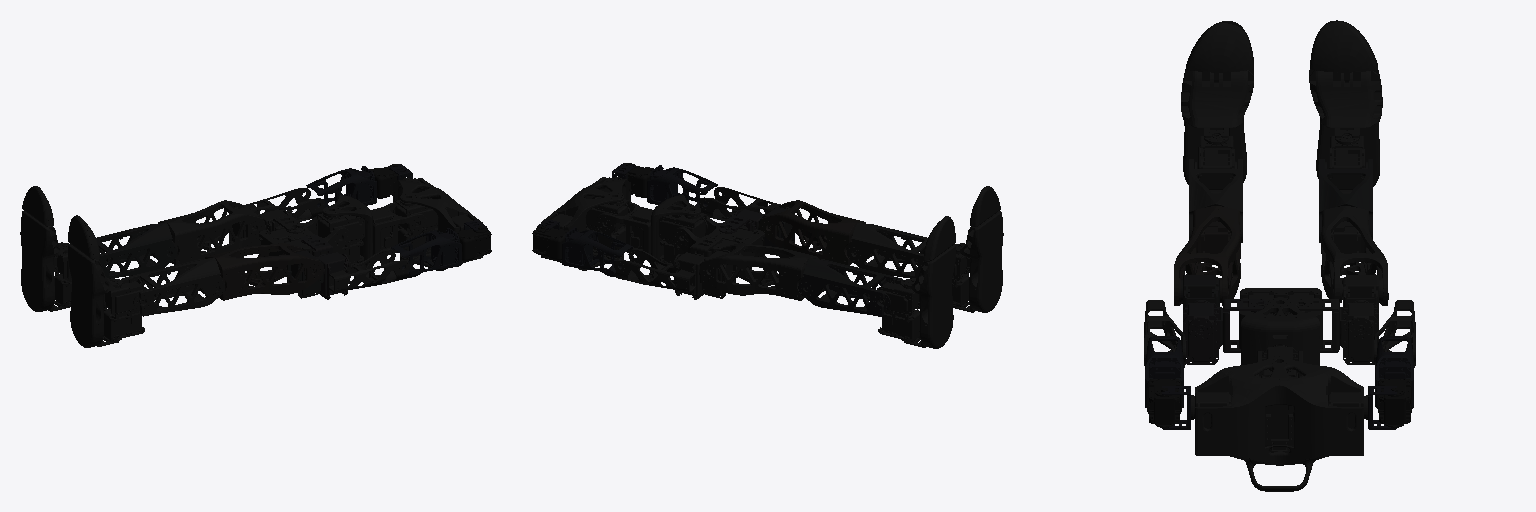
--- Facts derived from the render (not from the file) ---
3 views of the same robot in one strip: view 1: azimuth 30°, elevation 25°; view 2: azimuth 150°, elevation 25°; view 3: azimuth 270°, elevation 25° (orthographic).
Model main_stl_final with 30 links and 29 joints (25 revolute, 4 fixed), rooted at world, posed every joint at zero.
Links seen in each view (by area): view 1: l_hip_x, l_ankle_z, base, r_knee_x, l_knee_x, r_ankle_x, chest_z, l_ankle_x, l_shoulder_y, l_elbow, r_shoulder_y, spine (+11 smaller); view 2: r_knee_x, base, l_ankle_z, l_hip_x, r_ankle_x, l_knee_x, chest_z, right_ankle_z, r_shoulder_y, r_elbow, l_shoulder_y, spine (+11 smaller); view 3: chest_z, base, l_ankle_z, r_knee_x, l_hip_x, addomen, l_hip_z, r_hip_y, r_ankle_x, l_knee_x, l_ankle_x, right_ankle_z (+10 smaller).
Link boxes in pixels (x1=…): l_hip_x: x1=195, y1=243, x2=323, y2=300; l_ankle_z: x1=68, y1=215, x2=122, y2=347; base: x1=20, y1=186, x2=70, y2=311; r_knee_x: x1=147, y1=200, x2=264, y2=264; l_knee_x: x1=121, y1=258, x2=224, y2=316; r_ankle_x: x1=96, y1=222, x2=177, y2=277; chest_z: x1=393, y1=178, x2=482, y2=270; l_ankle_x: x1=104, y1=278, x2=146, y2=340; l_shoulder_y: x1=391, y1=228, x2=461, y2=277; l_elbow: x1=328, y1=250, x2=409, y2=292; r_shoulder_y: x1=306, y1=166, x2=376, y2=207; spine: x1=370, y1=202, x2=426, y2=254; r_knee_x: x1=700, y1=243, x2=828, y2=300; base: x1=901, y1=216, x2=955, y2=348; l_ankle_z: x1=953, y1=186, x2=1003, y2=312; l_hip_x: x1=759, y1=200, x2=877, y2=264; r_ankle_x: x1=798, y1=258, x2=902, y2=316; l_knee_x: x1=847, y1=223, x2=927, y2=278; chest_z: x1=541, y1=177, x2=630, y2=270; right_ankle_z: x1=877, y1=279, x2=919, y2=341; r_shoulder_y: x1=562, y1=227, x2=632, y2=276; r_elbow: x1=614, y1=249, x2=695, y2=291; l_shoulder_y: x1=647, y1=165, x2=717, y2=207; spine: x1=596, y1=202, x2=652, y2=253; chest_z: x1=1191, y1=356, x2=1367, y2=491; base: x1=1309, y1=20, x2=1382, y2=186; l_ankle_z: x1=1181, y1=21, x2=1253, y2=184; r_knee_x: x1=1321, y1=206, x2=1388, y2=305; l_hip_x: x1=1174, y1=206, x2=1240, y2=305; addomen: x1=1241, y1=297, x2=1319, y2=365; l_hip_z: x1=1183, y1=299, x2=1267, y2=364; r_hip_y: x1=1293, y1=299, x2=1378, y2=364; r_ankle_x: x1=1319, y1=159, x2=1372, y2=242; l_knee_x: x1=1189, y1=159, x2=1242, y2=242; l_ankle_x: x1=1198, y1=134, x2=1234, y2=193; right_ankle_z: x1=1329, y1=134, x2=1364, y2=193.
Size in the robot's own frame: 0.7014 by 0.3056 by 0.2607 metres.
26 mesh visuals loaded from 26 distinct referenced files (26 binary STL).

The robot description file, URDF, robot "main_stl_final":
<robot
  name="main_stl_final">
<link name="world" />
  <joint name="float" type="fixed">
    <parent link="world" />
    <child link="base" />
    <origin
        xyz="0 0 0"
        rpy="0 0 0"/>
  </joint>
  <link
    name="base">
    <inertial>
      <origin
        xyz="0.0124386401348986 0.000111230517714077 0.0293743201907392"
        rpy="0 0 0" />
      <mass
        value="0.256926143732942" />
      <inertia
        ixx="0.000867173594886241"
        ixy="-1.5849141367168E-06"
        ixz="2.88614426248793E-05"
        iyy="0.000796482628887496"
        iyz="3.23740087334044E-05"
        izz="0.000124315497414041" />
    </inertial>
    <visual>
      <origin
        xyz="0 0 0"
        rpy="0 0 0" />
      <geometry>
        <mesh
          filename="package://main_stl_final/meshes/base.STL" />
      </geometry>
      <material
        name="">
        <color
          rgba="0.0980392156862745 0.0980392156862745 0.0980392156862745 1" />
      </material>
    </visual>
    <collision>
      <origin
        xyz="0 0 0"
        rpy="0 0 0" />
      <geometry>
        <mesh
          filename="package://main_stl_final/meshes/base.STL" />
      </geometry>
    </collision>
  </link>
  <link
    name="right_ankle_z">
    <inertial>
      <origin
        xyz="0.0175808279162741 0.000152912879896498 -0.0193420655120859"
        rpy="0 0 0" />
      <mass
        value="0.145780669225913" />
      <inertia
        ixx="9.87379897927623E-05"
        ixy="2.29122686010014E-07"
        ixz="-4.81552409072526E-06"
        iyy="0.000120982123559853"
        iyz="-2.64279405662916E-07"
        izz="5.60384406698036E-05" />
    </inertial>
    <visual>
      <origin
        xyz="0 0 0"
        rpy="0 0 0" />
      <geometry>
        <mesh
          filename="package://main_stl_final/meshes/right_ankle_z.STL" />
      </geometry>
      <material
        name="">
        <color
          rgba="0.0980392156862745 0.0980392156862745 0.0980392156862745 1" />
      </material>
    </visual>
    <collision>
      <origin
        xyz="0 0 0"
        rpy="0 0 0" />
      <geometry>
        <mesh
          filename="package://main_stl_final/meshes/right_ankle_z.STL" />
      </geometry>
    </collision>
  </link>
  <joint
    name="raz"
    type="revolute">
    <origin
      xyz="0.0581054049587723 0 0"
      rpy="-1.2793585635329E-17 -1.63731792272017E-15 3.72434483752857E-27" />
    <parent
      link="base" />
    <child
      link="right_ankle_z" />
    <axis
      xyz="0 0 1" />
<limit       lower="0.0"       upper="5.0"       effort="5.0"       velocity="10.0" /> 
  </joint>
  <link
    name="r_ankle_x">
    <inertial>
      <origin
        xyz="0.0761088080033852 -0.00245262436800336 8.49116529343281E-05"
        rpy="0 0 0" />
      <mass
        value="0.08756287381993" />
      <inertia
        ixx="7.85588111640122E-05"
        ixy="-7.44879806343099E-06"
        ixz="1.75529004801119E-06"
        iyy="0.000225253421958116"
        iyz="-1.39500084885544E-07"
        izz="0.000199056327148253" />
    </inertial>
    <visual>
      <origin
        xyz="0 0 0"
        rpy="0 0 0" />
      <geometry>
        <mesh
          filename="package://main_stl_final/meshes/r_ankle_x.STL" />
      </geometry>
      <material
        name="">
        <color
          rgba="0.0894117647058823 0.0909803921568627 0.0925490196078431 1" />
      </material>
    </visual>
    <collision>
      <origin
        xyz="0 0 0"
        rpy="0 0 0" />
      <geometry>
        <mesh
          filename="package://main_stl_final/meshes/r_ankle_x.STL" />
      </geometry>
    </collision>
  </link>
  <joint
    name="rax"
    type="revolute">
    <origin
      xyz="0.036000000065552 -0.000768712973506325 0"
      rpy="1.5707963267949 1.63667354693312E-15 3.75862639053866E-27" />
    <parent
      link="right_ankle_z" />
    <child
      link="r_ankle_x" />
    <axis
      xyz="0 0 1" />
<limit       lower="0.0"       upper="5.0"       effort="5.0"       velocity="10.0" /> 
  </joint>
  <link
    name="r_knee_x">
    <inertial>
      <origin
        xyz="0.0609466391998564 0.00147499393899564 -0.00347403484029074"
        rpy="0 0 0" />
      <mass
        value="0.194089637220224" />
      <inertia
        ixx="0.000140124177625586"
        ixy="9.78888185990671E-06"
        ixz="6.6958472243565E-05"
        iyy="0.000631104743342437"
        iyz="-5.95409951638577E-07"
        izz="0.000604250094947369" />
    </inertial>
    <visual>
      <origin
        xyz="0 0 0"
        rpy="0 0 0" />
      <geometry>
        <mesh
          filename="package://main_stl_final/meshes/r_knee_x.STL" />
      </geometry>
      <material
        name="">
        <color
          rgba="0.0980392156862745 0.0980392156862745 0.0980392156862745 1" />
      </material>
    </visual>
    <collision>
      <origin
        xyz="0 0 0"
        rpy="0 0 0" />
      <geometry>
        <mesh
          filename="package://main_stl_final/meshes/r_knee_x.STL" />
      </geometry>
    </collision>
  </link>
  <joint
    name="rkx"
    type="revolute">
    <origin
      xyz="0.129912886462481 -0.00806590785724529 0"
      rpy="-2.47848616630186E-16 2.9102784664114E-17 6.31088724176809E-30" />
    <parent
      link="r_ankle_x" />
    <child
      link="r_knee_x" />
    <axis
      xyz="0 0 1" />
<limit       lower="0.0"       upper="5.0"       effort="5.0"       velocity="10.0" /> 
  </joint>
  <link
    name="r_hip_x">
    <inertial>
      <origin
        xyz="0.00129947283562459 -0.01527339225709 -0.000157234983829224"
        rpy="0 0 0" />
      <mass
        value="0.0758245667417548" />
      <inertia
        ixx="3.00534397269556E-05"
        ixy="-1.82327120022034E-07"
        ixz="-1.54948721967591E-08"
        iyy="1.92144821409177E-05"
        iyz="5.64836885256802E-07"
        izz="2.71088745549962E-05" />
    </inertial>
    <visual>
      <origin
        xyz="0 0 0"
        rpy="0 0 0" />
      <geometry>
        <mesh
          filename="package://main_stl_final/meshes/r_hip_x.STL" />
      </geometry>
      <material
        name="">
        <color
          rgba="0.0980392156862745 0.0980392156862745 0.0980392156862745 1" />
      </material>
    </visual>
    <collision>
      <origin
        xyz="0 0 0"
        rpy="0 0 0" />
      <geometry>
        <mesh
          filename="package://main_stl_final/meshes/r_hip_x.STL" />
      </geometry>
    </collision>
  </link>
  <joint
    name="rhx"
    type="revolute">
    <origin
      xyz="0.160159959966532 -0.000884364015389799 -0.0162478799519398"
      rpy="2.41072353052152E-15 2.12956435132725E-11 3.14543586108049E-14" />
    <parent
      link="r_knee_x" />
    <child
      link="r_hip_x" />
    <axis
      xyz="0 0 1" />
<limit       lower="0.0"       upper="5.0"       effort="5.0"       velocity="10.0" /> 
  </joint>
  <link
    name="r_hip_y">
    <inertial>
      <origin
        xyz="0.0137277552462373 -0.0072604235913246 0.000245472282205894"
        rpy="0 0 0" />
      <mass
        value="0.0894794931346165" />
      <inertia
        ixx="4.55393534208173E-05"
        ixy="-3.67740744112829E-06"
        ixz="-8.03561480155647E-08"
        iyy="3.93948356917027E-05"
        iyz="-1.62614770445338E-07"
        izz="5.86358829810736E-05" />
    </inertial>
    <visual>
      <origin
        xyz="0 0 0"
        rpy="0 0 0" />
      <geometry>
        <mesh
          filename="package://main_stl_final/meshes/r_hip_y.STL" />
      </geometry>
      <material
        name="">
        <color
          rgba="0.0980392156862745 0.0980392156862745 0.0980392156862745 1" />
      </material>
    </visual>
    <collision>
      <origin
        xyz="0 0 0"
        rpy="0 0 0" />
      <geometry>
        <mesh
          filename="package://main_stl_final/meshes/r_hip_y.STL" />
      </geometry>
    </collision>
  </link>
  <joint
    name="rhy"
    type="revolute">
    <origin
      xyz="0.0489999931064244 -0.0140000068883019 0"
      rpy="-1.5707963267949 -5.45971687998525E-15 -1.57079632679492" />
    <parent
      link="r_hip_x" />
    <child
      link="r_hip_y" />
    <axis
      xyz="0 0 1" />
<limit       lower="0.0"       upper="5.0"       effort="5.0"       velocity="10.0" /> 
  </joint>
  <link
    name="r_hip_z">
    <inertial>
      <origin
        xyz="0.022600344965631 -0.00733591554483382 -0.00554161317955437"
        rpy="0 0 0" />
      <mass
        value="0.237097281233807" />
      <inertia
        ixx="0.000193881186635794"
        ixy="-4.47143402714316E-09"
        ixz="1.06376498198874E-10"
        iyy="0.000210732239156832"
        iyz="-9.01094595312104E-06"
        izz="0.000322993127214612" />
    </inertial>
    <visual>
      <origin
        xyz="0 0 0"
        rpy="0 0 0" />
      <geometry>
        <mesh
          filename="package://main_stl_final/meshes/r_hip_z.STL" />
      </geometry>
      <material
        name="">
        <color
          rgba="0.0980392156862745 0.0980392156862745 0.0980392156862745 1" />
      </material>
    </visual>
    <collision>
      <origin
        xyz="0 0 0"
        rpy="0 0 0" />
      <geometry>
        <mesh
          filename="package://main_stl_final/meshes/r_hip_z.STL" />
      </geometry>
    </collision>
  </link>
  <joint
    name="rhz"
    type="revolute">
    <origin
      xyz="0 -0.0670000000000006 0"
      rpy="1.57079632679491 2.22440443639007E-16 -1.57079632679489" />
    <parent
      link="r_hip_y" />
    <child
      link="r_hip_z" />
    <axis
      xyz="0 0 1" />
<limit       lower="0.0"       upper="5.0"       effort="5.0"       velocity="10.0" /> 
  </joint>
  <link
    name="pelvis">
    <inertial>
      <origin
        xyz="0.0145593741157278 -0.0190867690428669 1.08854733481822E-05"
        rpy="0 0 0" />
      <mass
        value="0.151897777024048" />
      <inertia
        ixx="0.000107746815724194"
        ixy="2.61140023307291E-06"
        ixz="-3.58667500011859E-07"
        iyy="5.82625752675453E-05"
        iyz="-3.15566651271072E-08"
        izz="0.000128630844998531" />
    </inertial>
    <visual>
      <origin
        xyz="0 0 0"
        rpy="0 0 0" />
      <geometry>
        <mesh
          filename="package://main_stl_final/meshes/pelvis.STL" />
      </geometry>
      <material
        name="">
        <color
          rgba="0.0980392156862745 0.0980392156862745 0.0980392156862745 1" />
      </material>
    </visual>
    <collision>
      <origin
        xyz="0 0 0"
        rpy="0 0 0" />
      <geometry>
        <mesh
          filename="package://main_stl_final/meshes/pelvis.STL" />
      </geometry>
    </collision>
  </link>
  <joint
    name="ab_x"
    type="revolute">
    <origin
      xyz="0.0233500000000034 0.0506768133045644 0.0107814509317421"
      rpy="1.5707963267949 3.9822099445408E-15 1.5707963267949" />
    <parent
      link="r_hip_z" />
    <child
      link="pelvis" />
    <axis
      xyz="0 0 1" />
<limit       lower="0.0"       upper="5.0"       effort="5.0"       velocity="10.0" /> 
  </joint>
  <link
    name="addomen">
    <inertial>
      <origin
        xyz="0.0448613023999747 -2.32620780776793E-07 -0.0181088018888352"
        rpy="0 0 0" />
      <mass
        value="0.0969946403140362" />
      <inertia
        ixx="0.000184881930063448"
        ixy="2.21716166339973E-11"
        ixz="2.26540821667136E-07"
        iyy="0.000148140889776732"
        iyz="-1.07357021674313E-10"
        izz="7.72047597074321E-05" />
    </inertial>
    <visual>
      <origin
        xyz="0 0 0"
        rpy="0 0 0" />
      <geometry>
        <mesh
          filename="package://main_stl_final/meshes/addomen.STL" />
      </geometry>
      <material
        name="">
        <color
          rgba="0.0980392156862745 0.0980392156862745 0.0980392156862745 1" />
      </material>
    </visual>
    <collision>
      <origin
        xyz="0 0 0"
        rpy="0 0 0" />
      <geometry>
        <mesh
          filename="package://main_stl_final/meshes/addomen.STL" />
      </geometry>
    </collision>
  </link>
  <joint
    name="ab_z"
    type="revolute">
    <origin
      xyz="0 0 0"
      rpy="-1.5707963267949 4.23704587765192E-33 0" />
    <parent
      link="pelvis" />
    <child
      link="addomen" />
    <axis
      xyz="0 0 1" />
<limit       lower="0.0"       upper="5.0"       effort="5.0"       velocity="10.0" /> 
  </joint>
  <link
    name="spine">
    <inertial>
      <origin
        xyz="-7.97204286639985E-06 0.0154954185151023 0.0303047970172695"
        rpy="0 0 0" />
      <mass
        value="0.108096421033456" />
      <inertia
        ixx="7.28089493242809E-05"
        ixy="4.38308212413789E-09"
        ixz="-1.66451340031707E-09"
        iyy="6.5685230864033E-05"
        iyz="2.58617351861476E-06"
        izz="5.45908677052846E-05" />
    </inertial>
    <visual>
      <origin
        xyz="0 0 0"
        rpy="0 0 0" />
      <geometry>
        <mesh
          filename="package://main_stl_final/meshes/spine.STL" />
      </geometry>
      <material
        name="">
        <color
          rgba="0.0980392156862745 0.0980392156862745 0.0980392156862745 1" />
      </material>
    </visual>
    <collision>
      <origin
        xyz="0 0 0"
        rpy="0 0 0" />
      <geometry>
        <mesh
          filename="package://main_stl_final/meshes/spine.STL" />
      </geometry>
    </collision>
  </link>
  <joint
    name="spine"
    type="revolute">
    <origin
      xyz="0.0577999999999987 0 -0.00420000000000445"
      rpy="-1.5707963267949 -0.000522447466408047 -1.5707963267949" />
    <parent
      link="addomen" />
    <child
      link="spine" />
    <axis
      xyz="0 0 1" />
<limit       lower="0.0"       upper="5.0"       effort="5.0"       velocity="10.0" /> 
  </joint>
  <link
    name="chest_x">
    <inertial>
      <origin
        xyz="-0.0190867690526224 -0.0145593740719201 1.08854973309563E-05"
        rpy="0 0 0" />
      <mass
        value="0.151897777056301" />
      <inertia
        ixx="5.826257581755E-05"
        ixy="-2.61140091244761E-06"
        ixz="-3.15566621063709E-08"
        iyy="0.000107746815530301"
        iyz="3.5866777457195E-07"
        izz="0.000128630844922959" />
    </inertial>
    <visual>
      <origin
        xyz="0 0 0"
        rpy="0 0 0" />
      <geometry>
        <mesh
          filename="package://main_stl_final/meshes/chest_x.STL" />
      </geometry>
      <material
        name="">
        <color
          rgba="0.0980392156862745 0.0980392156862745 0.0980392156862745 1" />
      </material>
    </visual>
    <collision>
      <origin
        xyz="0 0 0"
        rpy="0 0 0" />
      <geometry>
        <mesh
          filename="package://main_stl_final/meshes/chest_x.STL" />
      </geometry>
    </collision>
  </link>
  <joint
    name="bust_x"
    type="revolute">
    <origin
      xyz="0.000747581402190722 0.00462955627422595 0.0778999999999999"
      rpy="-1.5707963267949 1.91593198407248E-16 -1.57027387932849" />
    <parent
      link="spine" />
    <child
      link="chest_x" />
    <axis
      xyz="0 0 1" />
<limit       lower="0.0"       upper="5.0"       effort="5.0"       velocity="10.0" /> 
  </joint>
  <link
    name="chest_z">
    <inertial>
      <origin
        xyz="0.0451976466584136 -1.53058996360533E-06 -0.0184709654492819"
        rpy="0 0 0" />
      <mass
        value="0.393918713528722" />
      <inertia
        ixx="0.00188425959706824"
        ixy="-1.14426451450786E-08"
        ixz="3.53542426855468E-06"
        iyy="0.000431135865199094"
        iyz="-1.02334293829605E-08"
        izz="0.00169725700646481" />
    </inertial>
    <visual>
      <origin
        xyz="0 0 0"
        rpy="0 0 0" />
      <geometry>
        <mesh
          filename="package://main_stl_final/meshes/chest_z.STL" />
      </geometry>
      <material
        name="">
        <color
          rgba="0.0980392156862745 0.0980392156862745 0.0980392156862745 1" />
      </material>
    </visual>
    <collision>
      <origin
        xyz="0 0 0"
        rpy="0 0 0" />
      <geometry>
        <mesh
          filename="package://main_stl_final/meshes/chest_z.STL" />
      </geometry>
    </collision>
  </link>
  <joint
    name="bust_z"
    type="revolute">
    <origin
      xyz="0 0 0"
      rpy="-1.5707963267949 -3.54322961518642E-31 -1.5707963267949" />
    <parent
      link="chest_x" />
    <child
      link="chest_z" />
    <axis
      xyz="0 0 1" />
<limit       lower="0.0"       upper="5.0"       effort="5.0"       velocity="10.0" /> 
  </joint>
  <link
    name="r_shoulder_x">
    <inertial>
      <origin
        xyz="-6.66133814775094E-16 -3.36582858215251E-06 -0.0068193761143008"
        rpy="0 0 0" />
      <mass
        value="0.00331186091737527" />
      <inertia
        ixx="1.30332333922394E-06"
        ixy="1.56270710712368E-23"
        ixz="-6.53608715176576E-22"
        iyy="5.2773695646352E-07"
        iyz="-3.76843422964449E-11"
        izz="1.2061089480071E-06" />
    </inertial>
    <visual>
      <origin
        xyz="0 0 0"
        rpy="0 0 0" />
      <geometry>
        <mesh
          filename="package://main_stl_final/meshes/r_shoulder_x.STL" />
      </geometry>
      <material
        name="">
        <color
          rgba="0.0792156862745098 0.0819607843137255 0.0929411764705882 1" />
      </material>
    </visual>
    <collision>
      <origin
        xyz="0 0 0"
        rpy="0 0 0" />
      <geometry>
        <mesh
          filename="package://main_stl_final/meshes/r_shoulder_x.STL" />
      </geometry>
    </collision>
  </link>
  <joint
    name="r_shx"
    type="revolute">
    <origin
      xyz="0.0510999999999997 0.1011 0.000249999999999639"
      rpy="1.5707963267949 -2.46519032881566E-32 -3.61111864572607E-35" />
    <parent
      link="chest_z" />
    <child
      link="r_shoulder_x" />
    <axis
      xyz="0 0 1" />
<limit       lower="0.0"       upper="5.0"       effort="5.0"       velocity="10.0" /> 
  </joint>
  <link
    name="r_shoulder_z">
    <inertial>
      <origin
        xyz="0.0148885750760865 -1.30653562274707E-08 -0.000502898907156657"
        rpy="0 0 0" />
      <mass
        value="0.053747766149175" />
      <inertia
        ixx="1.10132580382966E-05"
        ixy="1.44685570410879E-11"
        ixz="8.79105898772823E-07"
        iyy="1.92741574887945E-05"
        iyz="-1.66252449536845E-11"
        izz="1.64697341163697E-05" />
    </inertial>
    <visual>
      <origin
        xyz="0 0 0"
        rpy="0 0 0" />
      <geometry>
        <mesh
          filename="package://main_stl_final/meshes/r_shoulder_z.STL" />
      </geometry>
      <material
        name="">
        <color
          rgba="0.0752941176470588 0.0752941176470588 0.0752941176470588 1" />
      </material>
    </visual>
    <collision>
      <origin
        xyz="0 0 0"
        rpy="0 0 0" />
      <geometry>
        <mesh
          filename="package://main_stl_final/meshes/r_shoulder_z.STL" />
      </geometry>
    </collision>
  </link>
  <joint
    name="r_shz"
    type="revolute">
    <origin
      xyz="0 -9.99999999991841E-05 -0.0281999999999984"
      rpy="1.5707963267949 1.27012672419908E-30 -3.14159265358979" />
    <parent
      link="r_shoulder_x" />
    <child
      link="r_shoulder_z" />
    <axis
      xyz="0 0 1" />
<limit       lower="0.0"       upper="5.0"       effort="5.0"       velocity="10.0" /> 
  </joint>
  <link
    name="r_shoulder_y">
    <inertial>
      <origin
        xyz="-0.000109069620779299 -0.0108850169419462 -0.0600380615750236"
        rpy="0 0 0" />
      <mass
        value="0.106907888608306" />
      <inertia
        ixx="0.000173493042357695"
        ixy="1.31044630423513E-08"
        ixz="-7.05399392595715E-07"
        iyy="0.000169587952685978"
        iyz="3.08958372234357E-06"
        izz="2.97192152775365E-05" />
    </inertial>
    <visual>
      <origin
        xyz="0 0 0"
        rpy="0 0 0" />
      <geometry>
        <mesh
          filename="package://main_stl_final/meshes/r_shoulder_y.STL" />
      </geometry>
      <material
        name="">
        <color
          rgba="0.0792156862745098 0.0819607843137255 0.0933333333333333 1" />
      </material>
    </visual>
    <collision>
      <origin
        xyz="0 0 0"
        rpy="0 0 0" />
      <geometry>
        <mesh
          filename="package://main_stl_final/meshes/r_shoulder_y.STL" />
      </geometry>
    </collision>
  </link>
  <joint
    name="r_shy"
    type="revolute">
    <origin
      xyz="0.0389500143071799 0 -0.0102000000000002"
      rpy="-1.5707963267949 -0.000522447466408088 1.5707963267949" />
    <parent
      link="r_shoulder_z" />
    <child
      link="r_shoulder_y" />
    <axis
      xyz="0 0 1" />
<limit       lower="0.0"       upper="5.0"       effort="5.0"       velocity="10.0" /> 
  </joint>
  <link
    name="r_elbow">
    <inertial>
      <origin
        xyz="-0.0106699313290886 0.0474565337997894 -0.00379021504492512"
        rpy="0 0 0" />
      <mass
        value="0.0280567484647759" />
      <inertia
        ixx="5.25707677415535E-05"
        ixy="-4.99436236507076E-06"
        ixz="6.07880354880902E-07"
        iyy="9.96235577956424E-06"
        iyz="4.67259661859523E-06"
        izz="5.04497256043739E-05" />
    </inertial>
    <visual>
      <origin
        xyz="0 0 0"
        rpy="0 0 0" />
      <geometry>
        <mesh
          filename="package://main_stl_final/meshes/r_elbow.STL" />
      </geometry>
      <material
        name="">
        <color
          rgba="0.0980392156862745 0.0980392156862745 0.0980392156862745 1" />
      </material>
    </visual>
    <collision>
      <origin
        xyz="0 0 0"
        rpy="0 0 0" />
      <geometry>
        <mesh
          filename="package://main_stl_final/meshes/r_elbow.STL" />
      </geometry>
    </collision>
  </link>
  <joint
    name="r_elb"
    type="revolute">
    <origin
      xyz="-0.000194775498278336 -0.010000103124732 -0.10934998569282"
      rpy="-1.5707963267949 4.25993811088222E-16 -1.57027387932849" />
    <parent
      link="r_shoulder_y" />
    <child
      link="r_elbow" />
    <axis
      xyz="0 0 1" />
<limit       lower="0.0"       upper="5.0"       effort="5.0"       velocity="10.0" /> 
  </joint>
  <link
    name="r_arm" />
  <joint
    name="r_enf"
    type="fixed">
    <origin
      xyz="0 0.12 0"
      rpy="-2.5991578680995E-15 2.18852215205462E-16 -1.57079632679491" />
    <parent
      link="r_elbow" />
    <child
      link="r_arm" />
    <axis
      xyz="0 0 0" />
<limit       lower="0.0"       upper="5.0"       effort="5.0"       velocity="10.0" /> 
  </joint>
  <link
    name="l_shoulder_x">
    <inertial>
      <origin
        xyz="2.22044604925031E-16 -3.36582858287415E-06 0.00681937611429997"
        rpy="0 0 0" />
      <mass
        value="0.00331186091737524" />
      <inertia
        ixx="1.30332333922394E-06"
        ixy="-4.53071996842015E-22"
        ixz="-6.01320592681236E-23"
        iyy="5.27736956463517E-07"
        iyz="3.76843422969304E-11"
        izz="1.20610894800709E-06" />
    </inertial>
    <visual>
      <origin
        xyz="0 0 0"
        rpy="0 0 0" />
      <geometry>
        <mesh
          filename="package://main_stl_final/meshes/l_shoulder_x.STL" />
      </geometry>
      <material
        name="">
        <color
          rgba="0.0792156862745098 0.0819607843137255 0.0929411764705882 1" />
      </material>
    </visual>
    <collision>
      <origin
        xyz="0 0 0"
        rpy="0 0 0" />
      <geometry>
        <mesh
          filename="package://main_stl_final/meshes/l_shoulder_x.STL" />
      </geometry>
    </collision>
  </link>
  <joint
    name="l_shx"
    type="revolute">
    <origin
      xyz="0.0510999999999999 -0.1011 0.000249999999999917"
      rpy="1.5707963267949 -2.46519032881566E-32 -3.61111864572607E-35" />
    <parent
      link="chest_z" />
    <child
      link="l_shoulder_x" />
    <axis
      xyz="0 0 1" />
<limit       lower="0.0"       upper="5.0"       effort="5.0"       velocity="10.0" /> 
  </joint>
  <link
    name="l_shoulder_z">
    <inertial>
      <origin
        xyz="0.0148885750775004 -1.30653109720047E-08 -0.000502898906707655"
        rpy="0 0 0" />
      <mass
        value="0.0537477661468724" />
      <inertia
        ixx="1.10132580380226E-05"
        ixy="1.44687389032919E-11"
        ixz="8.79105899719048E-07"
        iyy="1.92741574864689E-05"
        iyz="-1.66252390642355E-11"
        izz="1.64697341143041E-05" />
    </inertial>
    <visual>
      <origin
        xyz="0 0 0"
        rpy="0 0 0" />
      <geometry>
        <mesh
          filename="package://main_stl_final/meshes/l_shoulder_z.STL" />
      </geometry>
      <material
        name="">
        <color
          rgba="0.0752941176470588 0.0752941176470588 0.0752941176470588 1" />
      </material>
    </visual>
    <collision>
      <origin
        xyz="0 0 0"
        rpy="0 0 0" />
      <geometry>
        <mesh
          filename="package://main_stl_final/meshes/l_shoulder_z.STL" />
      </geometry>
    </collision>
  </link>
  <joint
    name="l_shz"
    type="revolute">
    <origin
      xyz="0 -9.99999999999335E-05 0.0281999999999996"
      rpy="1.5707963267949 4.21297175334708E-34 -3.14159265358979" />
    <parent
      link="l_shoulder_x" />
    <child
      link="l_shoulder_z" />
    <axis
      xyz="0 0 1" />
<limit       lower="0.0"       upper="5.0"       effort="5.0"       velocity="10.0" /> 
  </joint>
  <link
    name="l_shoulder_y">
    <inertial>
      <origin
        xyz="-0.000109069620349761 -0.0108850169420229 -0.0600380615759755"
        rpy="0 0 0" />
      <mass
        value="0.106907888611865" />
      <inertia
        ixx="0.000173493042549146"
        ixy="1.31044629846816E-08"
        ixz="-7.05399390480433E-07"
        iyy="0.000169587952691713"
        iyz="3.0895837225963E-06"
        izz="2.97192154648227E-05" />
    </inertial>
    <visual>
      <origin
        xyz="0 0 0"
        rpy="0 0 0" />
      <geometry>
        <mesh
          filename="package://main_stl_final/meshes/l_shoulder_y.STL" />
      </geometry>
      <material
        name="">
        <color
          rgba="0.0792156862745098 0.0819607843137255 0.0933333333333333 1" />
      </material>
    </visual>
    <collision>
      <origin
        xyz="0 0 0"
        rpy="0 0 0" />
      <geometry>
        <mesh
          filename="package://main_stl_final/meshes/l_shoulder_y.STL" />
      </geometry>
    </collision>
  </link>
  <joint
    name="l_shy"
    type="revolute">
    <origin
      xyz="0.0389500143071805 0 -0.0102000000000003"
      rpy="-1.5707963267949 -0.000522447466407616 1.5707963267949" />
    <parent
      link="l_shoulder_z" />
    <child
      link="l_shoulder_y" />
    <axis
      xyz="0 0 1" />
<limit       lower="0.0"       upper="5.0"       effort="5.0"       velocity="10.0" /> 
  </joint>
  <link
    name="l_elbow">
    <inertial>
      <origin
        xyz="-0.0106719576098211 0.0474532970449402 0.00358384372762238"
        rpy="0 0 0" />
      <mass
        value="0.0280603094571796" />
      <inertia
        ixx="5.25764360848713E-05"
        ixy="-4.99556639376733E-06"
        ixz="-6.04676774895294E-07"
        iyy="9.96423183891914E-06"
        iyz="-4.67863532418116E-06"
        izz="5.04546743424878E-05" />
    </inertial>
    <visual>
      <origin
        xyz="0 0 0"
        rpy="0 0 0" />
      <geometry>
        <mesh
          filename="package://main_stl_final/meshes/l_elbow.STL" />
      </geometry>
      <material
        name="">
        <color
          rgba="0.0980392156862745 0.0980392156862745 0.0980392156862745 1" />
      </material>
    </visual>
    <collision>
      <origin
        xyz="0 0 0"
        rpy="0 0 0" />
      <geometry>
        <mesh
          filename="package://main_stl_final/meshes/l_elbow.STL" />
      </geometry>
    </collision>
  </link>
  <joint
    name="l_elb"
    type="revolute">
    <origin
      xyz="-0.000194775498278343 -0.010000103124732 -0.10934998569282"
      rpy="-1.5707963267949 1.44784651952241E-15 -1.57027387932849" />
    <parent
      link="l_shoulder_y" />
    <child
      link="l_elbow" />
    <axis
      xyz="0 0 1" />
<limit       lower="0.0"       upper="5.0"       effort="5.0"       velocity="10.0" /> 
  </joint>
  <link
    name="l_arm" />
  <joint
    name="l_enf"
    type="fixed">
    <origin
      xyz="0 0.12 0"
      rpy="0 7.70371977754894E-34 -1.57079632679491" />
    <parent
      link="l_elbow" />
    <child
      link="l_arm" />
    <axis
      xyz="0 0 0" />
<limit       lower="0.0"       upper="5.0"       effort="5.0"       velocity="10.0" /> 
  </joint>
  <link
    name="l_hip_z">
    <inertial>
      <origin
        xyz="-0.00024822451570794 0.0597395770100096 -0.0137277552461872"
        rpy="0 0 0" />
      <mass
        value="0.0894794931343059" />
      <inertia
        ixx="5.86358837610937E-05"
        ixy="1.58121267729997E-07"
        ixz="-7.86973600996201E-08"
        iyy="3.93947141094849E-05"
        iyz="3.67740497201703E-06"
        izz="4.55392326187257E-05" />
    </inertial>
    <visual>
      <origin
        xyz="0 0 0"
        rpy="0 0 0" />
      <geometry>
        <mesh
          filename="package://main_stl_final/meshes/l_hip_z.STL" />
      </geometry>
      <material
        name="">
        <color
          rgba="0.0947058823529412 0.0919607843137255 0.09584313725490196 1" />
      </material>
    </visual>
    <collision>
      <origin
        xyz="0 0 0"
        rpy="0 0 0" />
      <geometry>
        <mesh
          filename="package://main_stl_final/meshes/l_hip_z.STL" />
      </geometry>
    </collision>
  </link>
  <joint
    name="lhz"
    type="revolute">
    <origin
      xyz="0.0451999999999998 0 0"
      rpy="-2.56804126574917E-15 -3.85179957445007E-15 -1.5707963267949" />
    <parent
      link="r_hip_z" />
    <child
      link="l_hip_z" />
    <axis
      xyz="0 0 1" />
<limit       lower="0.0"       upper="5.0"       effort="5.0"       velocity="10.0" /> 
  </joint>
  <link
    name="l_hip_y">
    <inertial>
      <origin
        xyz="0.000156571467672034 0.00127347087691729 -0.0477005380196651"
        rpy="0 0 0" />
      <mass
        value="0.0758245666994791" />
      <inertia
        ixx="2.71082838837689E-05"
        ixy="5.68963104995012E-07"
        ixz="1.53954184957564E-08"
        iyy="1.92150761433616E-05"
        iyz="1.82336358819641E-07"
        izz="3.0053439671423E-05" />
    </inertial>
    <visual>
      <origin
        xyz="0 0 0"
        rpy="0 0 0" />
      <geometry>
        <mesh
          filename="package://main_stl_final/meshes/l_hip_y.STL" />
      </geometry>
      <material
        name="">
        <color
          rgba="0.0894117647058823 0.0909803921568627 0.0925490196078431 1" />
      </material>
    </visual>
    <collision>
      <origin
        xyz="0 0 0"
        rpy="0 0 0" />
      <geometry>
        <mesh
          filename="package://main_stl_final/meshes/l_hip_y.STL" />
      </geometry>
    </collision>
  </link>
  <joint
    name="lhy"
    type="revolute">
    <origin
      xyz="0 0.0670000000000004 0"
      rpy="-1.57079632679489 -0.000522447466411298 1.5707963267949" />
    <parent
      link="l_hip_z" />
    <child
      link="l_hip_y" />
    <axis
      xyz="0 0 1" />
<limit       lower="0.0"       upper="5.0"       effort="5.0"       velocity="10.0" /> 
  </joint>
  <link
    name="l_hip_x">
    <inertial>
      <origin
        xyz="0.00241197469480892 0.0997664889900159 -0.0127366664675169"
        rpy="0 0 0" />
      <mass
        value="0.192838785327947" />
      <inertia
        ixx="0.000621062161819588"
        ixy="-8.92525551204169E-06"
        ixz="6.82239578656306E-07"
        iyy="0.000139840235943412"
        iyz="6.77393205427861E-05"
        izz="0.000594066964812802" />
    </inertial>
    <visual>
      <origin
        xyz="0 0 0"
        rpy="0 0 0" />
      <geometry>
        <mesh
          filename="package://main_stl_final/meshes/l_hip_x.STL" />
      </geometry>
      <material
        name="">
        <color
          rgba="0.0984313725490196 0.0933333333333333 0.0913725490196078 1" />
      </material>
    </visual>
    <collision>
      <origin
        xyz="0 0 0"
        rpy="0 0 0" />
      <geometry>
        <mesh
          filename="package://main_stl_final/meshes/l_hip_x.STL" />
      </geometry>
    </collision>
  </link>
  <joint
    name="lhx"
    type="revolute">
    <origin
      xyz="0 -0.0140000015361242 -0.0490000120911313"
      rpy="-1.5707963267949 -1.36265191671861E-14 -1.57027387932849" />
    <parent
      link="l_hip_y" />
    <child
      link="l_hip_x" />
    <axis
      xyz="0 0 1" />
<limit       lower="0.0"       upper="5.0"       effort="5.0"       velocity="10.0" /> 
  </joint>
  <link
    name="l_knee_x">
    <inertial>
      <origin
        xyz="0.0538166768872385 -0.00560749298849819 0.00106727353146063"
        rpy="0 0 0" />
      <mass
        value="0.0874990901925346" />
      <inertia
        ixx="7.85091672348697E-05"
        ixy="-7.42877987058731E-06"
        ixz="3.61104788872406E-07"
        iyy="0.000225207903776059"
        iyz="-9.31961781616568E-08"
        izz="0.000198980440982479" />
    </inertial>
    <visual>
      <origin
        xyz="0 0 0"
        rpy="0 0 0" />
      <geometry>
        <mesh
          filename="package://main_stl_final/meshes/l_knee_x.STL" />
      </geometry>
      <material
        name="">
        <color
          rgba="0.0980392156862745 0.0980392156862745 0.0980392156862745 1" />
      </material>
    </visual>
    <collision>
      <origin
        xyz="0 0 0"
        rpy="0 0 0" />
      <geometry>
        <mesh
          filename="package://main_stl_final/meshes/l_knee_x.STL" />
      </geometry>
    </collision>
  </link>
  <joint
    name="lkx"
    type="revolute">
    <origin
      xyz="0.000884362244770037 0.160159940984767 -0.0172449350267005"
      rpy="-1.5710523160184E-14 5.32758212112977E-12 1.57079632679491" />
    <parent
      link="l_hip_x" />
    <child
      link="l_knee_x" />
    <axis
      xyz="0 0 1" />
<limit       lower="0.0"       upper="5.0"       effort="5.0"       velocity="10.0" /> 
  </joint>
  <link
    name="l_ankle_x">
    <inertial>
      <origin
        xyz="0.0184549152364325 0.0193405670081557 -9.19536853243585E-05"
        rpy="0 0 0" />
      <mass
        value="0.14627479989731" />
      <inertia
        ixx="9.89041882722431E-05"
        ixy="-4.81321268231836E-06"
        ixz="1.34514939522829E-07"
        iyy="5.62975636627772E-05"
        iyz="-2.60144358203446E-07"
        izz="0.000121082349387551" />
    </inertial>
    <visual>
      <origin
        xyz="0 0 0"
        rpy="0 0 0" />
      <geometry>
        <mesh
          filename="package://main_stl_final/meshes/l_ankle_x.STL" />
      </geometry>
      <material
        name="">
        <color
          rgba="0.0980392156862745 0.0980392156862745 0.0980392156862745 1" />
      </material>
    </visual>
    <collision>
      <origin
        xyz="0 0 0"
        rpy="0 0 0" />
      <geometry>
        <mesh
          filename="package://main_stl_final/meshes/l_ankle_x.STL" />
      </geometry>
    </collision>
  </link>
  <joint
    name="lax"
    type="revolute">
    <origin
      xyz="0.129912886462929 -0.0080659078572427 0"
      rpy="3.54067903468591E-15 -9.82641799484264E-16 -5.12759588393658E-30" />
    <parent
      link="l_knee_x" />
    <child
      link="l_ankle_x" />
    <axis
      xyz="0 0 1" />
<limit       lower="0.0"       upper="5.0"       effort="5.0"       velocity="10.0" /> 
  </joint>
  <link
    name="l_ankle_z">
    <inertial>
      <origin
        xyz="0.0455986993940447 4.18897893385284E-05 0.029379108229979"
        rpy="0 0 0" />
      <mass
        value="0.256939692199436" />
      <inertia
        ixx="0.00086754079646816"
        ixy="1.6392941672389E-06"
        ixz="-2.73609772194462E-05"
        iyy="0.000796259146166294"
        iyz="3.39161547014397E-05"
        izz="0.000124218434882248" />
    </inertial>
    <visual>
      <origin
        xyz="0 0 0"
        rpy="0 0 0" />
      <geometry>
        <mesh
          filename="package://main_stl_final/meshes/l_ankle_z.STL" />
      </geometry>
      <material
        name="">
        <color
          rgba="0.0980392156862745 0.0980392156862745 0.0980392156862745 1" />
      </material>
    </visual>
    <collision>
      <origin
        xyz="0 0 0"
        rpy="0 0 0" />
      <geometry>
        <mesh
          filename="package://main_stl_final/meshes/l_ankle_z.STL" />
      </geometry>
    </collision>
  </link>
  <joint
    name="laz"
    type="revolute">
    <origin
      xyz="0.0360000000000054 0 0"
      rpy="1.5707963267949 6.84167353444122E-30 2.95822839457879E-29" />
    <parent
      link="l_ankle_x" />
    <child
      link="l_ankle_z" />
    <axis
      xyz="0 0 1" />
<limit       lower="0.0"       upper="5.0"       effort="5.0"       velocity="10.0" /> 
  </joint>
  <link
    name="l_leg" />
  <joint
    name="l_leg_enf"
    type="fixed">
    <origin
      xyz="0.0581054050243198 0 0"
      rpy="-3.03576608295941E-18 -7.79668944567487E-17 6.21583296936286E-28" />
    <parent
      link="l_ankle_z" />
    <child
      link="l_leg" />
    <axis
      xyz="0 0 0" />
<limit       lower="0.0"       upper="5.0"       effort="5.0"       velocity="10.0" /> 
  </joint>
</robot>
